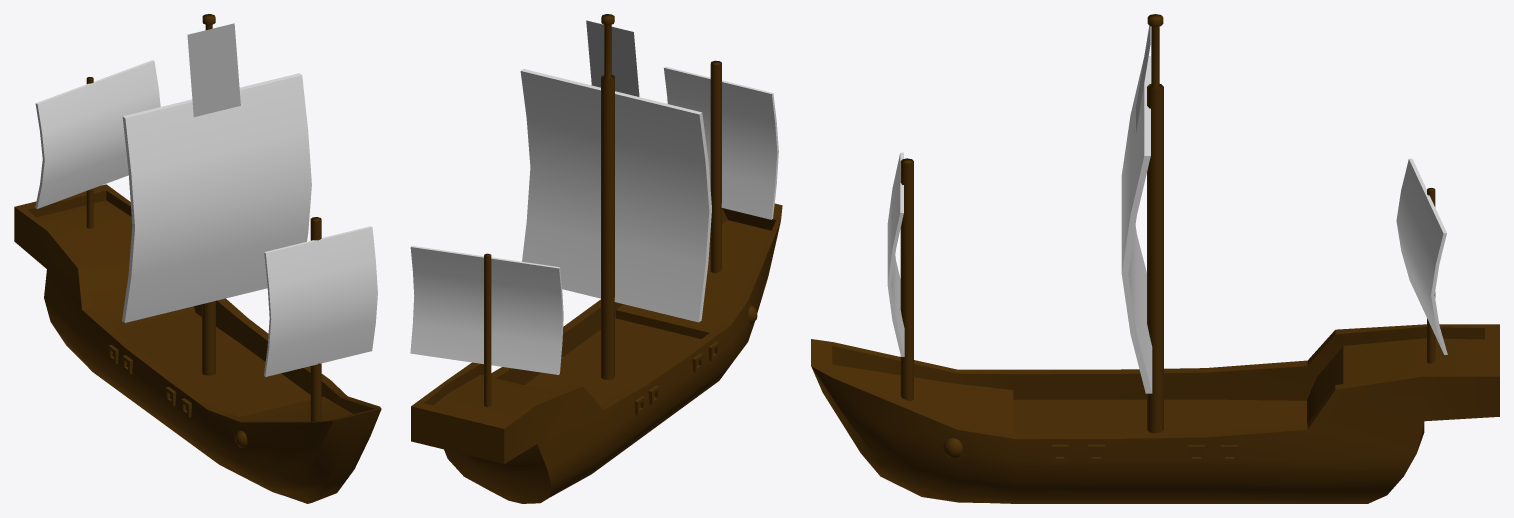
File: warship.fbx
3 views of the same model, side by side, from view 1: azimuth 30°, elevation 25°; view 2: azimuth 150°, elevation 25°; view 3: azimuth 270°, elevation 25° (orthographic). The views are drawn at different scales.
Parts seen in each view (by area): view 1: ship, main_fan, front_fan, back_fan, zheng, main_pole, front_pole; view 2: ship, main_fan, back_fan, front_fan, main_pole, zheng, front_pole, back_pole; view 3: ship, main_fan, main_pole, back_fan, front_pole, front_fan.
Part boxes in pixels (x1=…): ship: x1=14, y1=184, x2=381, y2=503; main_fan: x1=122, y1=73, x2=311, y2=322; front_fan: x1=264, y1=226, x2=377, y2=376; back_fan: x1=35, y1=60, x2=160, y2=208; zheng: x1=187, y1=23, x2=240, y2=116; main_pole: x1=202, y1=14, x2=215, y2=375; front_pole: x1=310, y1=217, x2=321, y2=421; ship: x1=411, y1=203, x2=782, y2=503; main_fan: x1=520, y1=69, x2=711, y2=322; back_fan: x1=410, y1=246, x2=563, y2=374; front_fan: x1=664, y1=66, x2=778, y2=219; main_pole: x1=601, y1=14, x2=614, y2=379; zheng: x1=586, y1=20, x2=639, y2=96; front_pole: x1=710, y1=60, x2=721, y2=273; back_pole: x1=484, y1=253, x2=491, y2=406; ship: x1=811, y1=324, x2=1499, y2=503; main_fan: x1=1121, y1=56, x2=1152, y2=393; main_pole: x1=1147, y1=14, x2=1163, y2=433; back_fan: x1=1396, y1=158, x2=1447, y2=354; front_pole: x1=900, y1=158, x2=913, y2=400; front_fan: x1=887, y1=152, x2=904, y2=356.
Bounding box in the file's own units: 375 × 836 × 1091.
